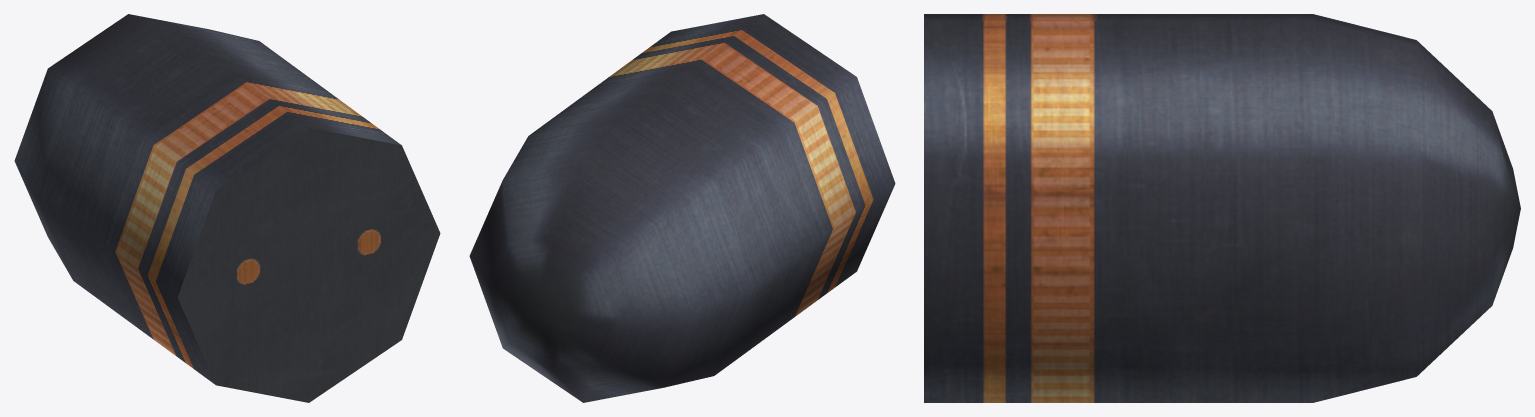
The model's file is Bullet.fbx.
3 views of the same model, side by side, from view 1: azimuth 30°, elevation 25°; view 2: azimuth 150°, elevation 25°; view 3: azimuth 270°, elevation 25° (orthographic). The views are drawn at different scales.
Parts seen in each view (by area): view 1: Empty_Mesh; view 2: Empty_Mesh; view 3: Empty_Mesh.
Boxes of the visible parts, x1=… form: Empty_Mesh: x1=14, y1=14, x2=440, y2=402; Empty_Mesh: x1=469, y1=14, x2=895, y2=402; Empty_Mesh: x1=924, y1=14, x2=1520, y2=402.
Bounding box in the file's own units: 0.4 × 0.4 × 0.5768.
